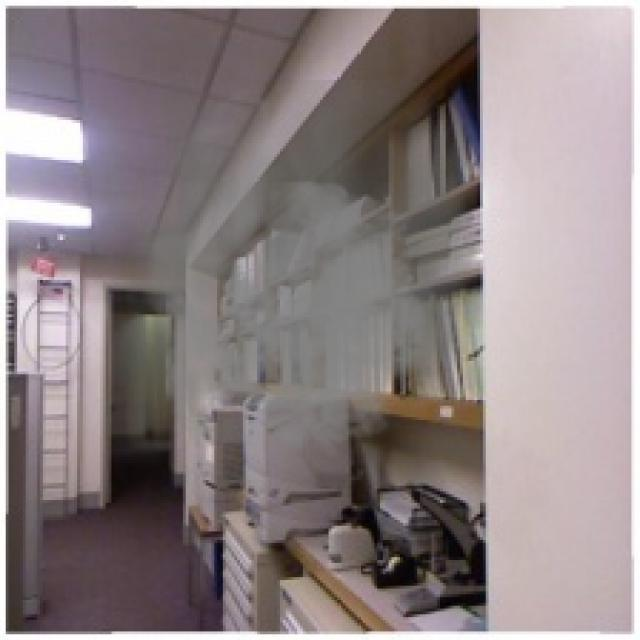Smoke: (126, 80, 486, 460)
